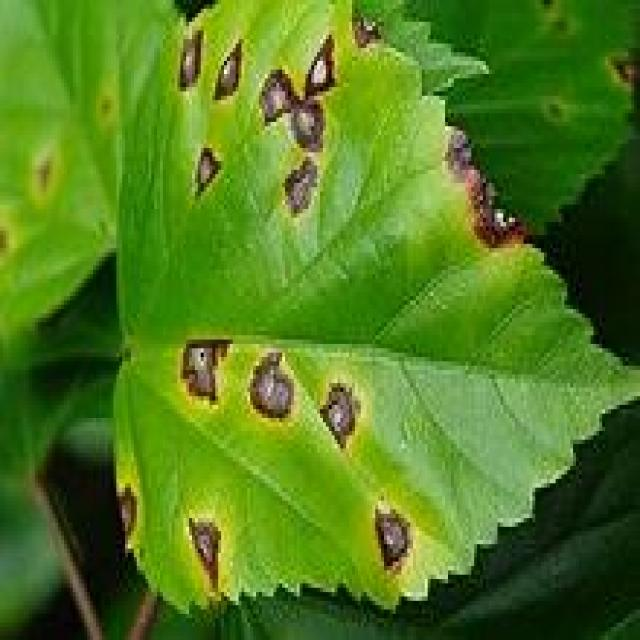blight: (174, 306, 393, 489), (169, 28, 358, 216)
